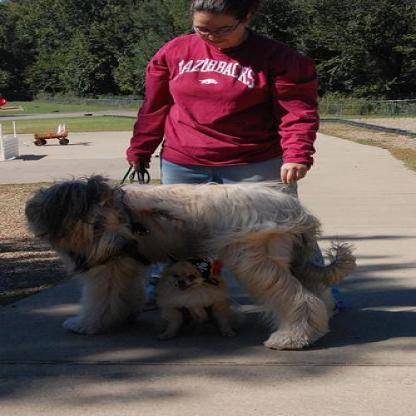briard: (23, 173, 360, 349)
